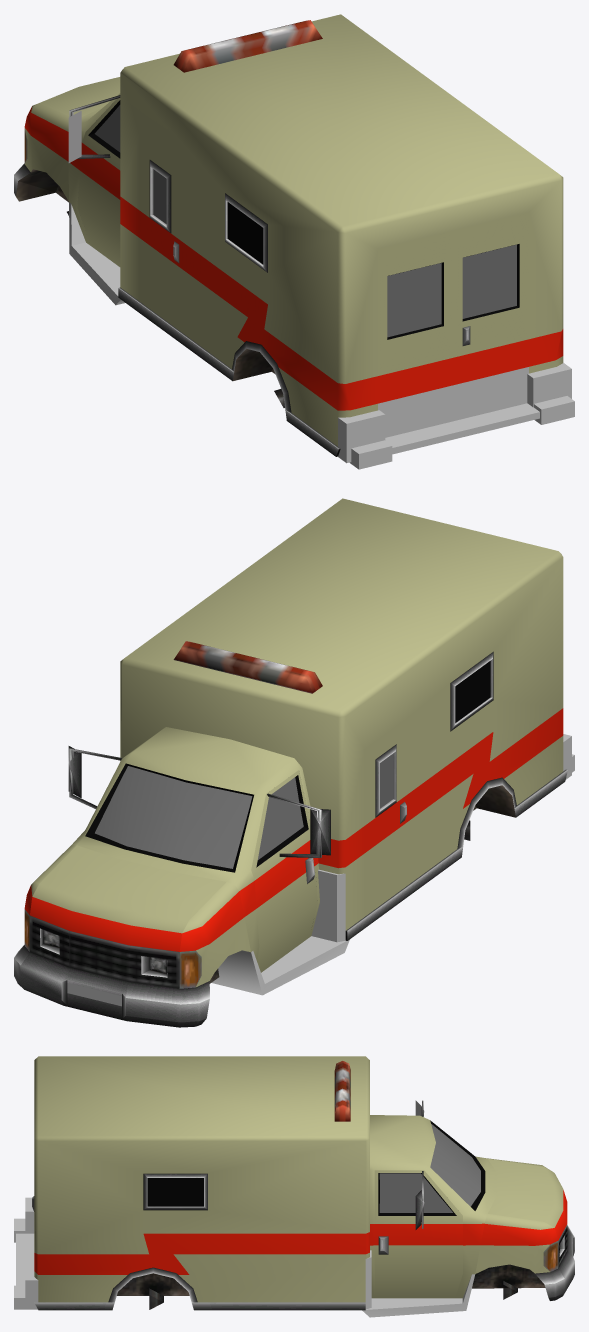
Rendered from ambulance.fbx.
3 renders of one model, top to bottom at view 1: azimuth 30°, elevation 25°; view 2: azimuth 150°, elevation 25°; view 3: azimuth 270°, elevation 25°, orthographic. The views are drawn at different scales.
Visible parts, largest first — view 1: bonnet_hi_ok; view 2: bonnet_hi_ok; view 3: bonnet_hi_ok.
Part boxes in pixels (x1,y1,x2,y2): bonnet_hi_ok: (14, 14, 574, 469); bonnet_hi_ok: (14, 498, 574, 1027); bonnet_hi_ok: (14, 1056, 574, 1317).
Bounding box in the file's own units: 282 × 263 × 694.
